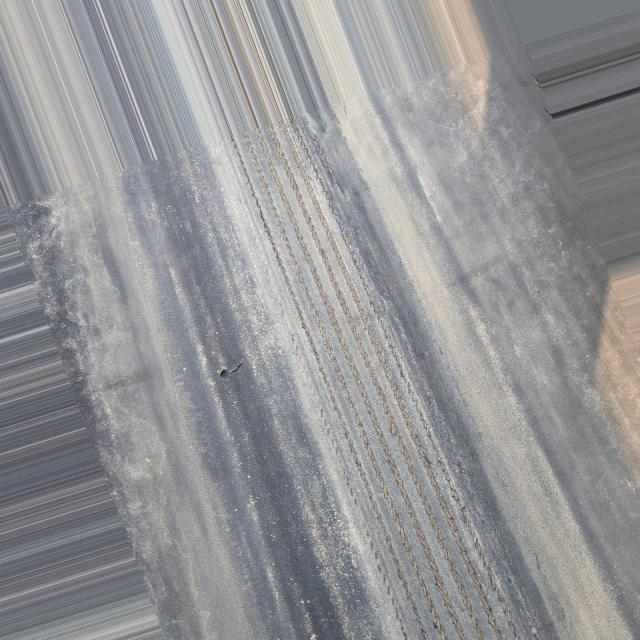Tear: (210, 342, 254, 390)
Wear: (226, 123, 564, 639)
